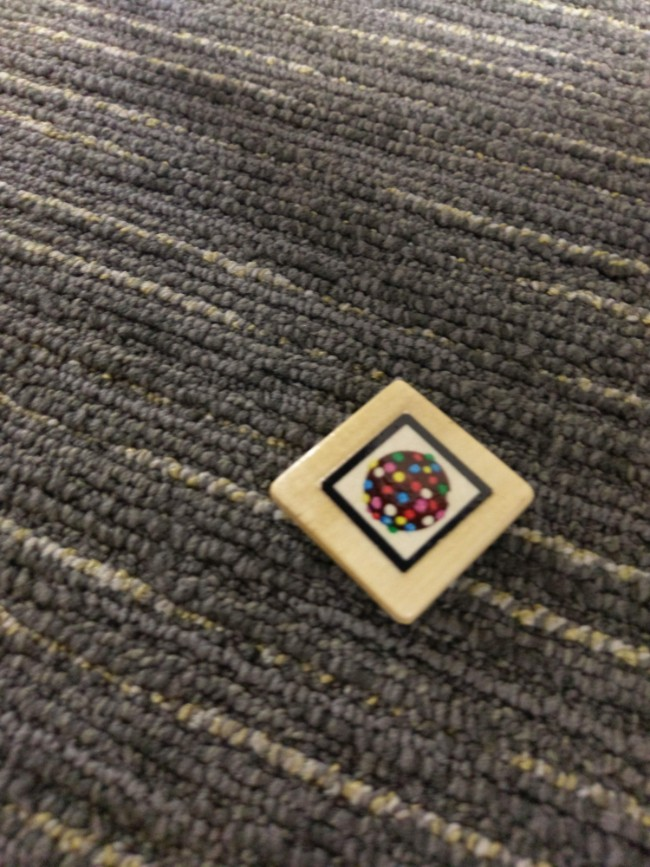cookie: (326, 418, 488, 569)
